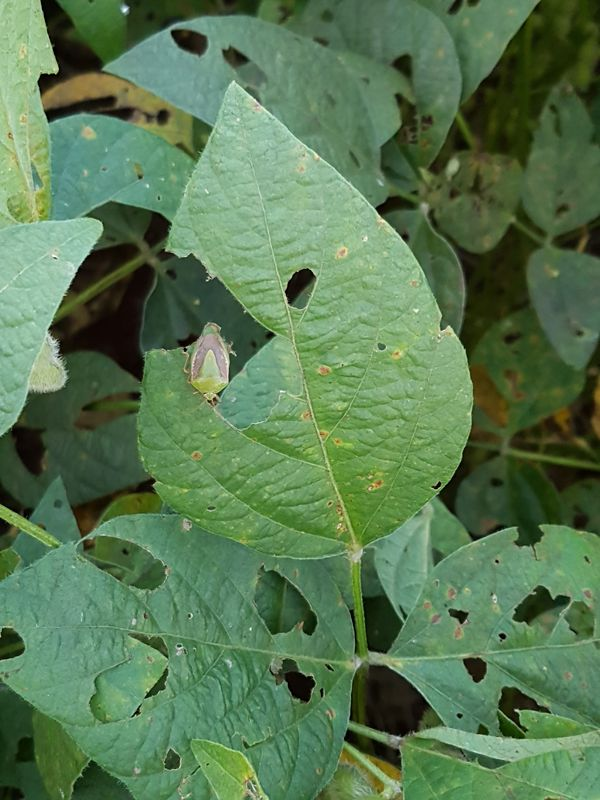Edessa_meditabunda: (171, 317, 249, 414)
